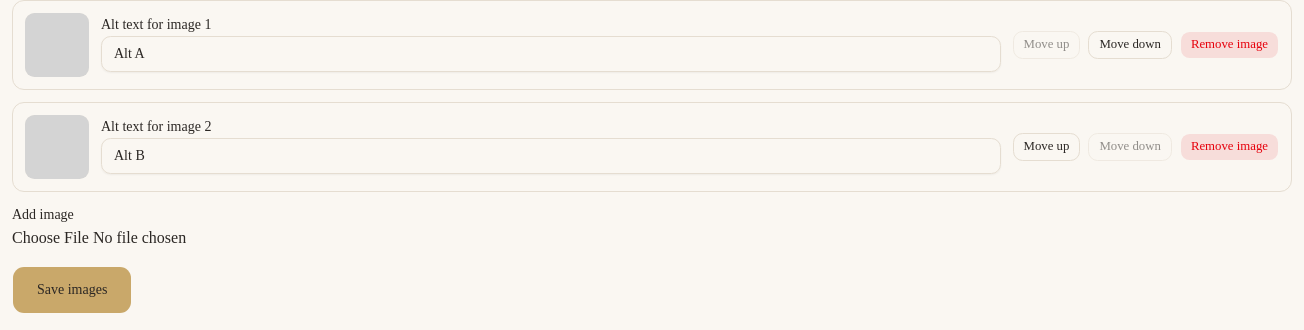
Test: ImageManager › edit mode: removing an image drops it from the list
Click the 1st button "Remove image" at (1229, 45), box x1=1180 y1=31 x2=1279 y2=59
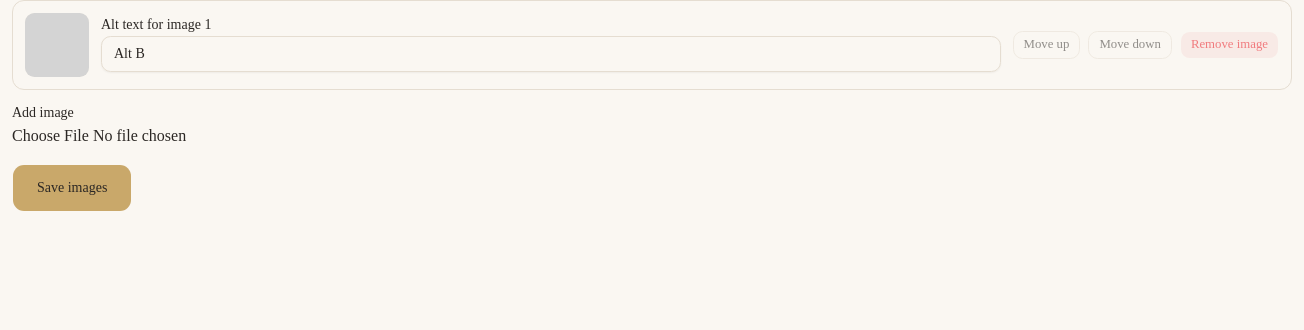
Result: the field labelled "Alt text for image 1" holds "Alt B" at x1=101 y1=36 x2=1000 y2=72
